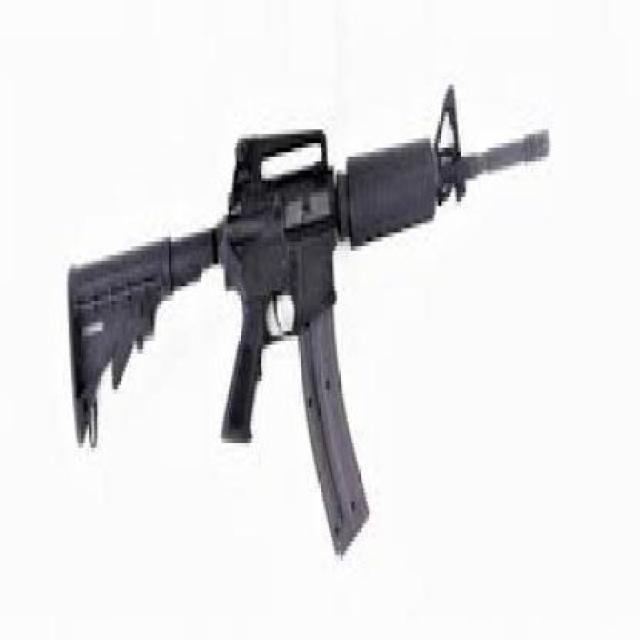weapon: (52, 71, 562, 564)
